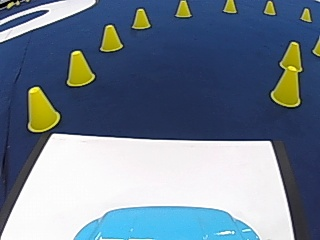cone: (269, 45, 303, 105), (25, 85, 60, 131), (65, 49, 95, 86), (279, 40, 302, 71), (99, 23, 122, 51), (131, 7, 150, 29), (174, 0, 191, 18), (262, 0, 276, 15), (222, 0, 236, 13), (299, 7, 311, 22), (311, 35, 319, 56)
